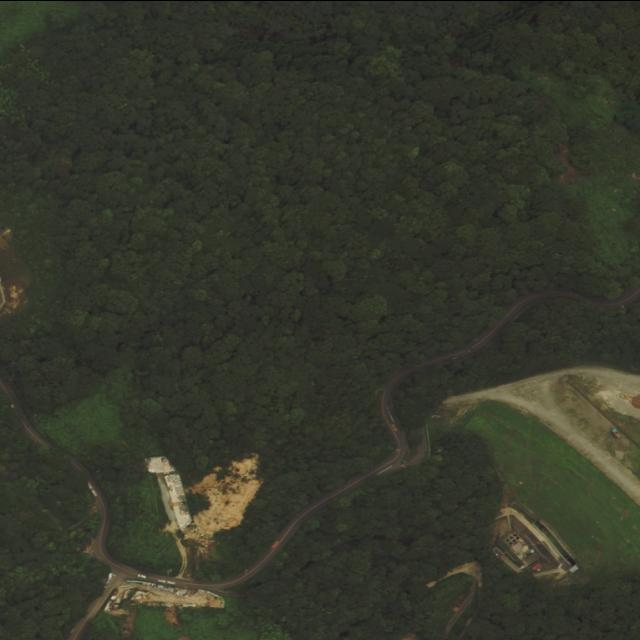landslide: (184, 454, 261, 552)
